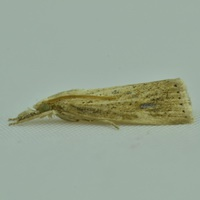insect: (9, 78, 192, 128)
